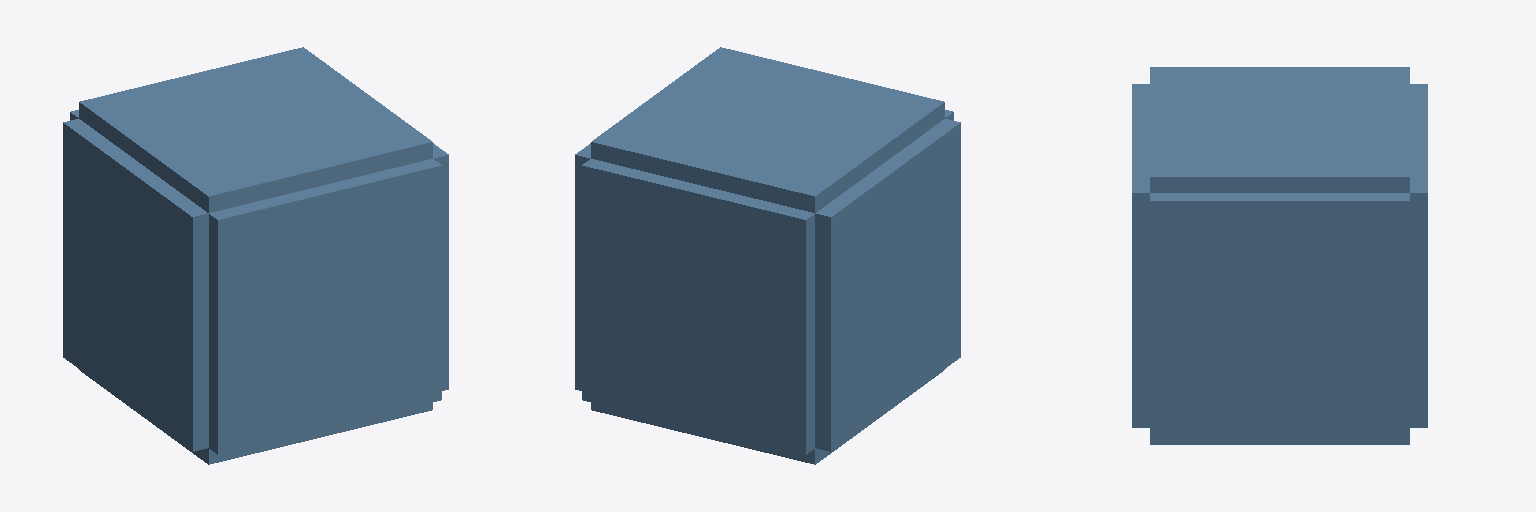
The picture shows the model from 3 angles: view 1: azimuth 30°, elevation 25°; view 2: azimuth 150°, elevation 25°; view 3: azimuth 270°, elevation 25°; orthographic projection.
Parts seen in each view (by area): view 1: object 1; view 2: object 1; view 3: object 1.
Boxes of the visible parts, box(x1,y1,x2,y2) form: object 1: box(63, 47, 448, 464); object 1: box(575, 47, 960, 464); object 1: box(1132, 67, 1427, 444).
Bounding box in the file's own units: 1.6 × 1.6 × 1.6.
1 materials, 1 textured.